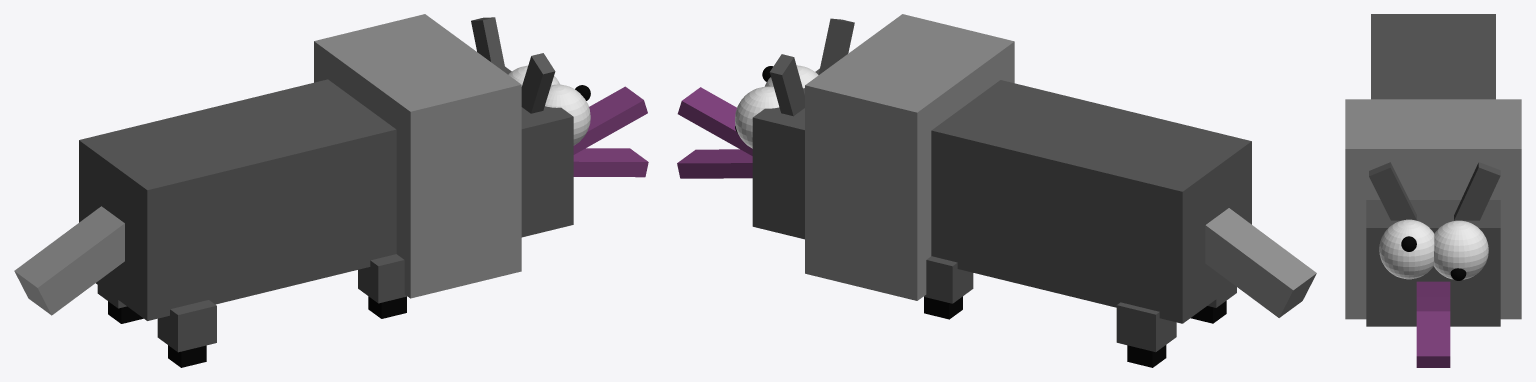
Rendered from Dumb_Wolf.fbx.
The picture shows the model from 3 angles, left to right: view 1: azimuth 30°, elevation 25°; view 2: azimuth 150°, elevation 25°; view 3: azimuth 270°, elevation 25°; orthographic projection. The views are drawn at different scales.
Parts seen in each view (by area): view 1: Cube.013, Cube.014, Cube.016, Cube.015, Cube.021, Cube.017, Cube.018, Cube.020, Cube.027, Sphere.005, Cube.028, Cube.024 (+1 smaller); view 2: Cube.013, Cube.014, Cube.016, Cube.015, Cube.022, Cube.017, Cube.018, Cube.019, Cube.028, Sphere.004, Cube.027, Cube.026 (+1 smaller); view 3: Cube.014, Cube.013, Cube.015, Sphere.004, Sphere.005, Cube.018, Cube.027, Cube.028, Cube.017, Sphere.006, Sphere.007.
Part boxes in pixels (x1,y1,x2,y2): Cube.013: (79,79,396,320); Cube.014: (314,14,521,298); Cube.016: (14,206,124,315); Cube.015: (505,66,573,237); Cube.021: (157,300,216,352); Cube.017: (573,86,647,154); Cube.018: (573,148,648,177); Cube.020: (358,254,407,303); Cube.027: (521,53,555,113); Sphere.005: (545,84,590,145); Cube.028: (471,17,506,72); Cube.024: (368,296,406,318); Cube.013: (931,80,1251,323); Cube.014: (805,14,1014,300); Cube.016: (1205,208,1316,317); Cube.015: (752,68,819,239); Cube.022: (1116,302,1176,352); Cube.017: (677,87,752,155); Cube.018: (677,149,752,178); Cube.019: (924,256,973,303); Cube.028: (769,54,804,116); Sphere.004: (735,86,779,148); Cube.027: (818,18,854,74); Cube.026: (1127,345,1166,367); Cube.014: (1345,99,1521,319); Cube.013: (1371,14,1495,99); Cube.015: (1366,200,1500,326); Sphere.004: (1433,220,1488,279); Sphere.005: (1379,219,1434,279); Cube.018: (1416,311,1450,367); Cube.027: (1369,162,1416,220); Cube.028: (1454,162,1500,220); Cube.017: (1416,281,1450,311); Sphere.006: (1401,236,1416,251); Sphere.007: (1450,268,1466,280).
Bounding box in the file's own units: 741 × 245 × 202.
